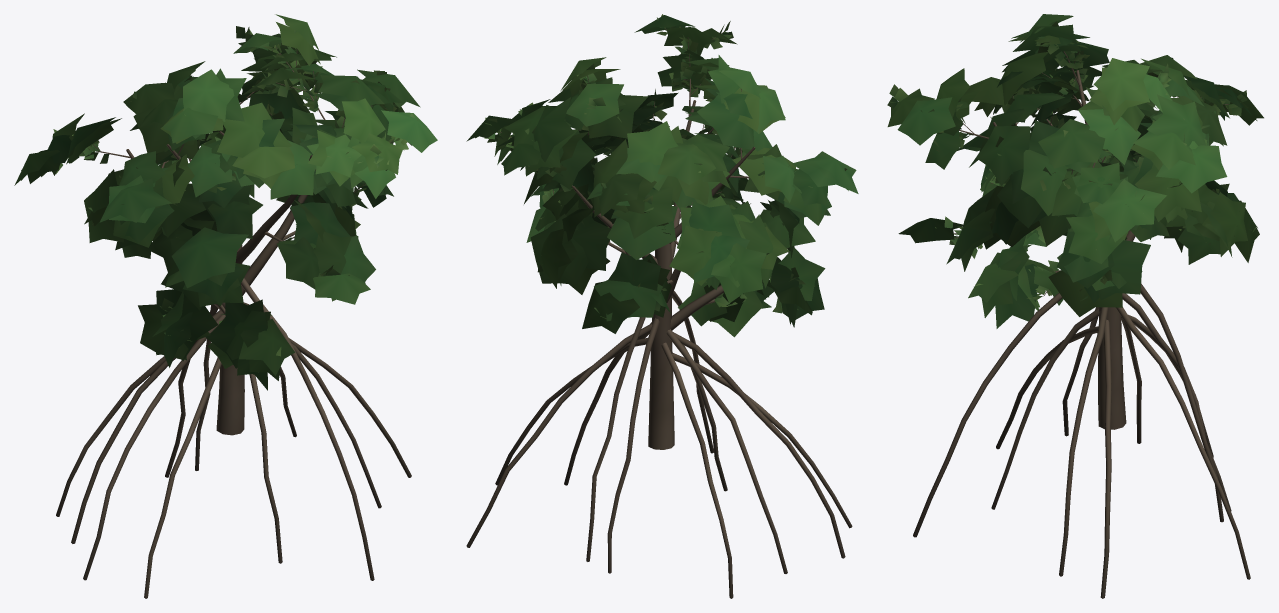
The model's file is mangrove-a.lod0.glb.
The picture shows the model from 3 angles, left to right: view 1: azimuth 30°, elevation 25°; view 2: azimuth 150°, elevation 25°; view 3: azimuth 270°, elevation 25°; orthographic projection. The views are drawn at different scales.
Size of the model in its own units: 5.28 by 6.76 by 4.74.
